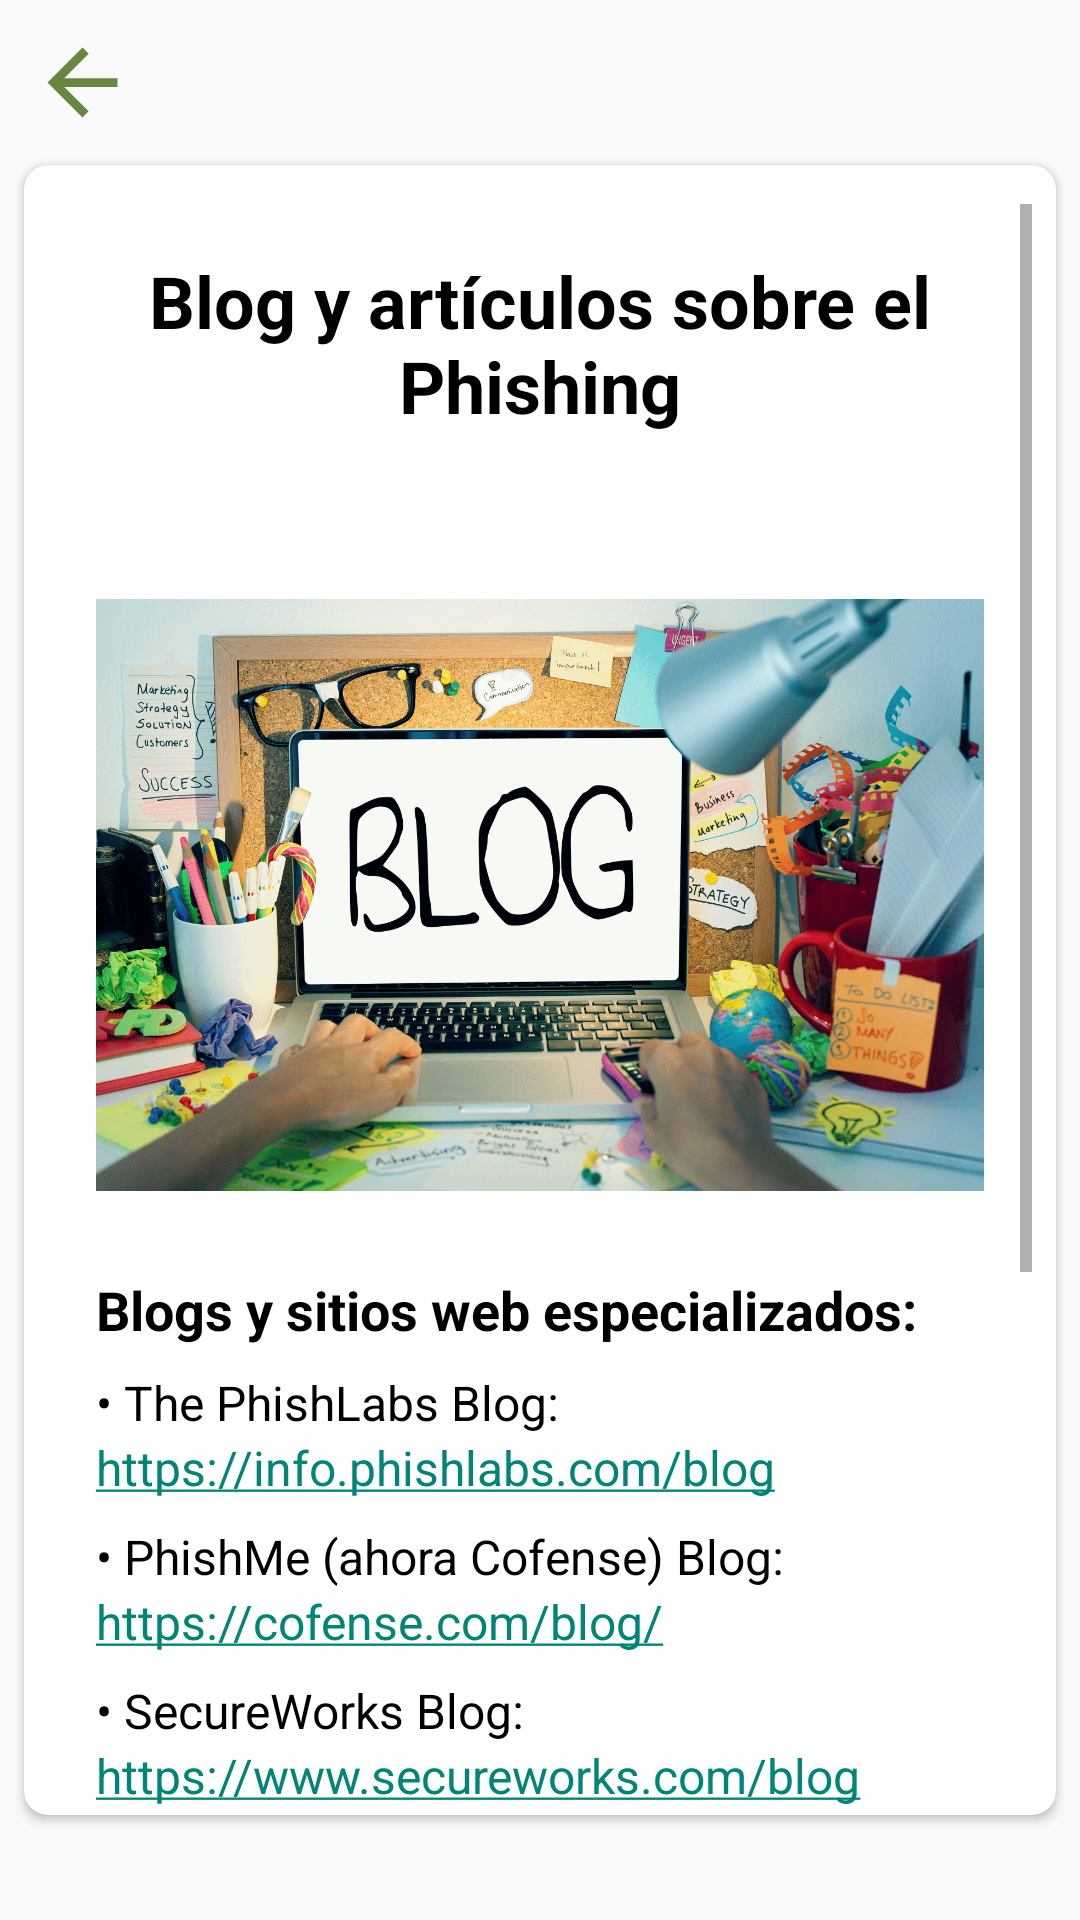

Screen size 1080px x 1920px. Icon name, then its center in pixels as (x,y):
back arrow: (82,82)
